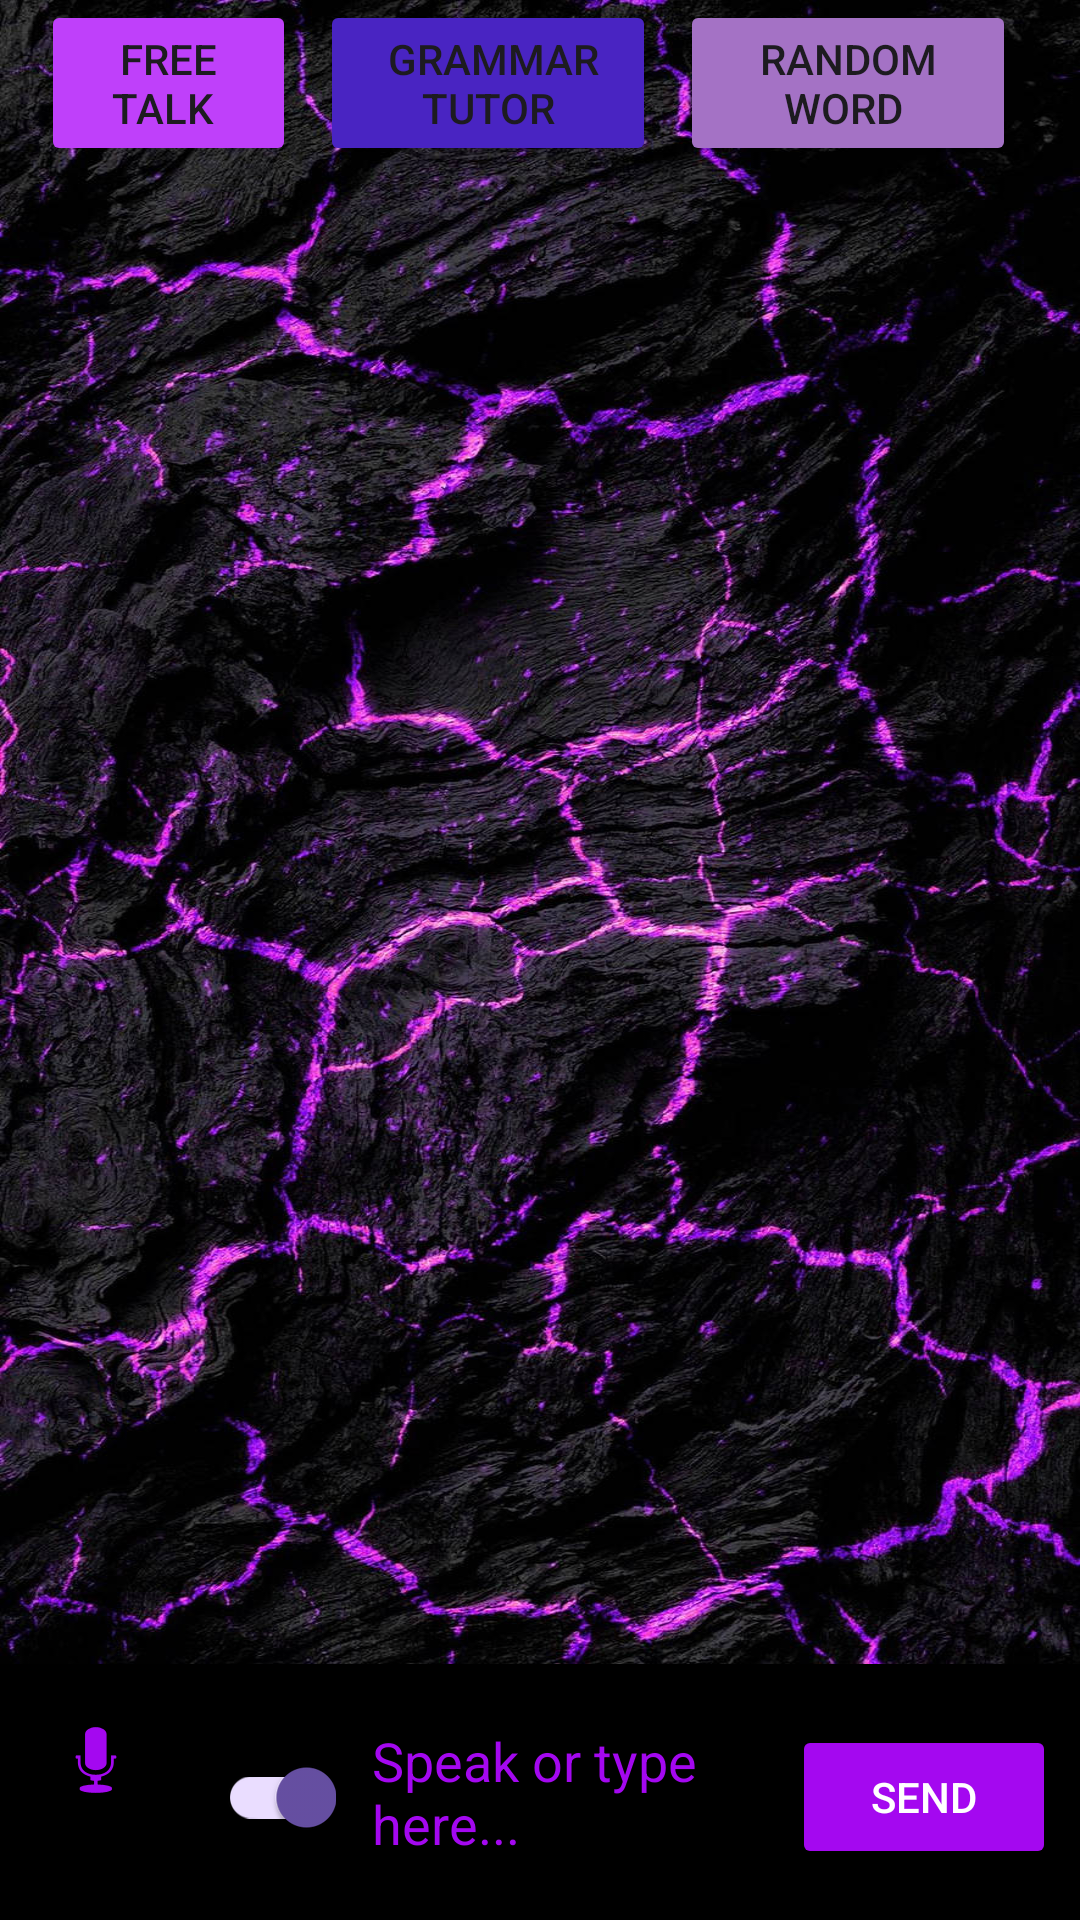

Where icons sit on this 1080*1920 app screen, as (x1, y1, x2, y2):
Microphone: (75, 1727, 117, 1793)
